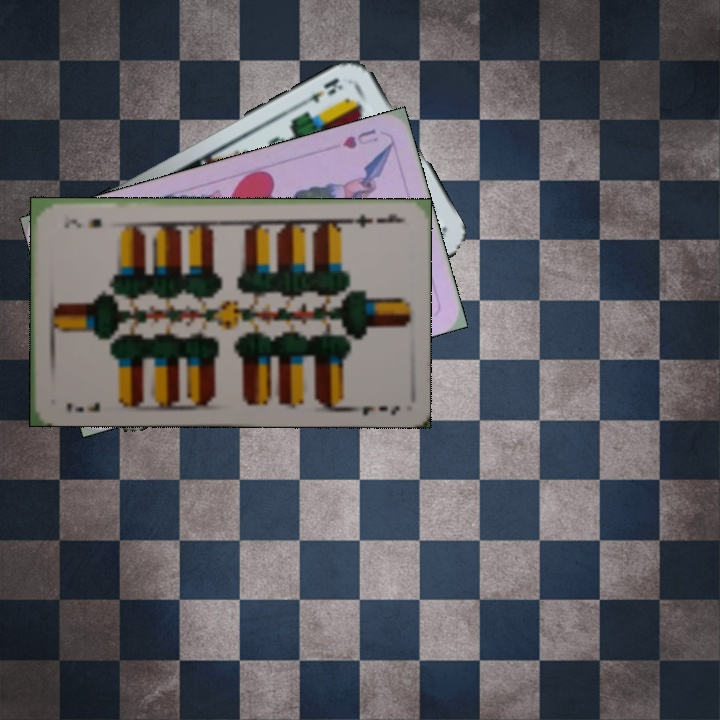E7: (345, 210, 405, 230), (63, 399, 102, 415)
EK: (299, 74, 346, 107)
HU: (338, 124, 381, 152)
